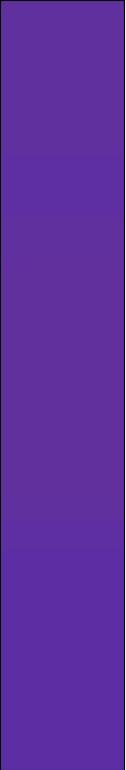safe: (8, 10, 118, 752)
